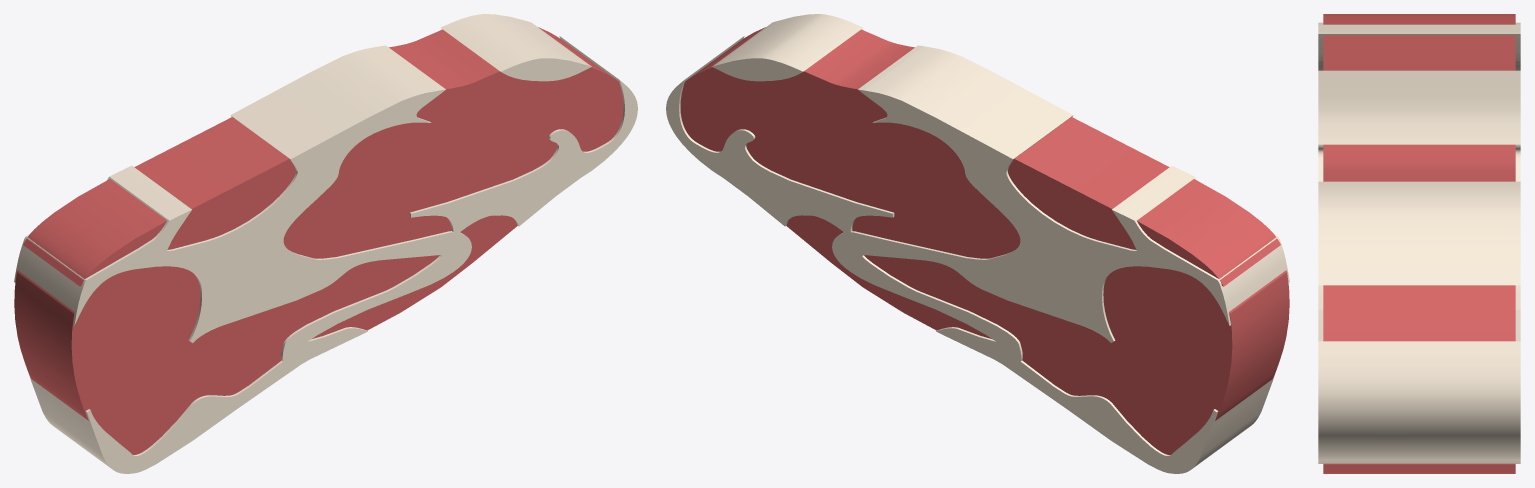
Rendered from 4 - MEAT PBR.glb.
3 renders of one model, left to right at view 1: azimuth 30°, elevation 25°; view 2: azimuth 150°, elevation 25°; view 3: azimuth 270°, elevation 25°, orthographic. The views are drawn at different scales.
Parts seen in each view (by area): view 1: MEAT-PBR.3, MEAT-PBR; view 2: MEAT-PBR.3, MEAT-PBR; view 3: MEAT-PBR, MEAT-PBR.3.
Boxes of the visible parts, x1,y1,x2,y2 form: MEAT-PBR.3: (14, 27, 623, 454); MEAT-PBR: (14, 14, 637, 473); MEAT-PBR.3: (680, 27, 1289, 454); MEAT-PBR: (666, 14, 1289, 473); MEAT-PBR: (1318, 22, 1520, 463); MEAT-PBR.3: (1323, 14, 1515, 473).
Bounding box in the file's own units: 411 × 220 × 76.
